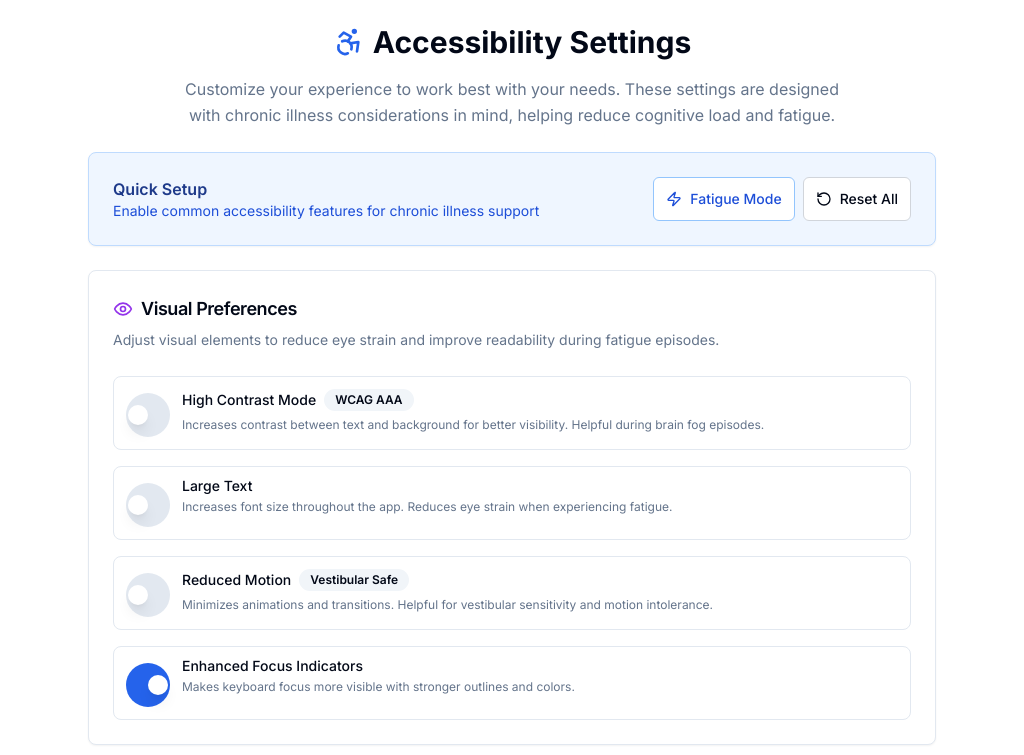
it: AccessibilitySettings › provides fatigue mode quick setup
This screenshot has width=1024, height=755.
Click the button "Fatigue Mode". click: (724, 199)
box: [653,177,795,221]
(page scrolled)
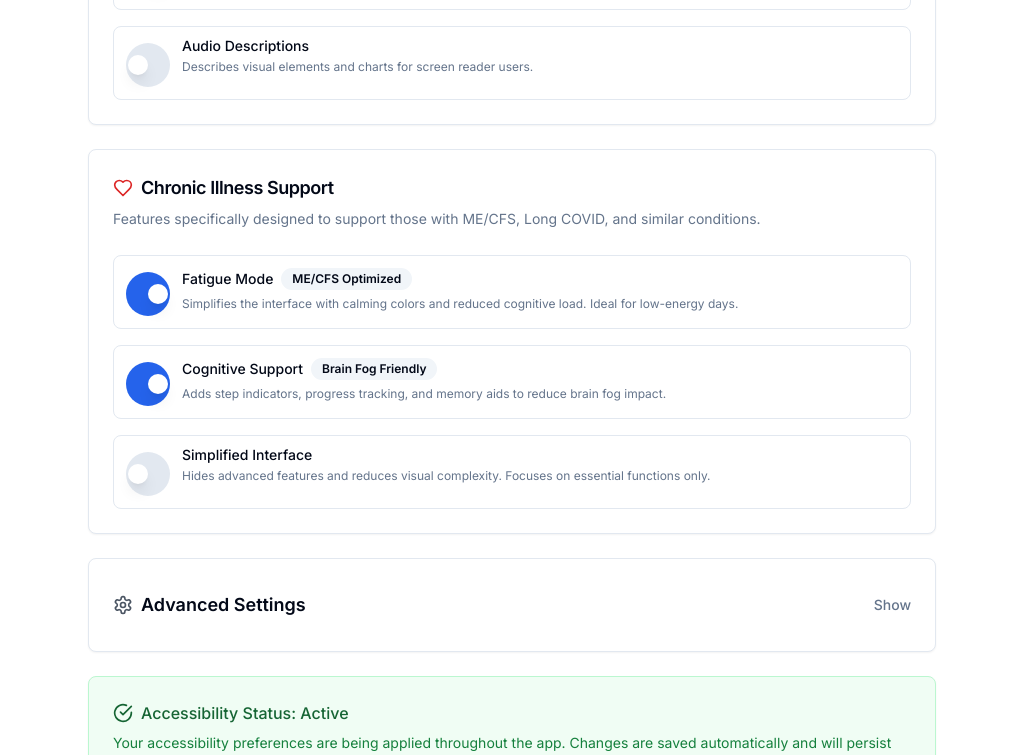
Expected: the switch named "fatigue mode" in the row of "ME/CFS Optimized" is checked, [126,272,170,316]
Expected: the switch named "cognitive support" next to "Cognitive Support" is checked, [126,362,170,406]
